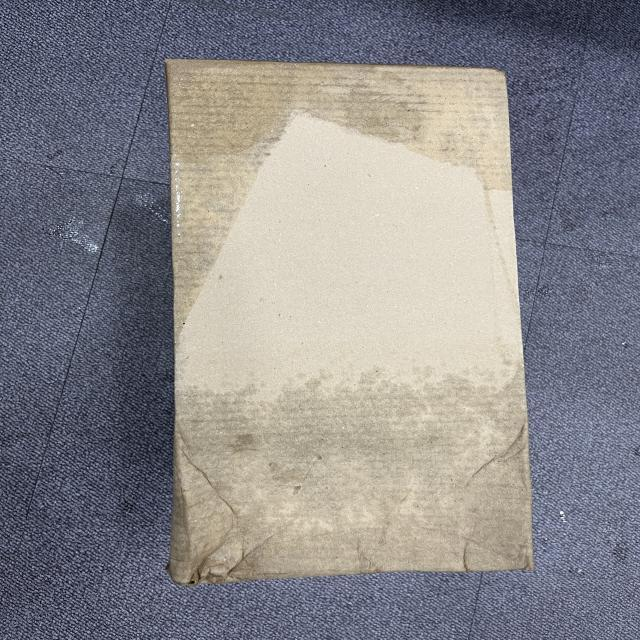wet: (167, 60, 518, 351), (176, 388, 532, 576)
